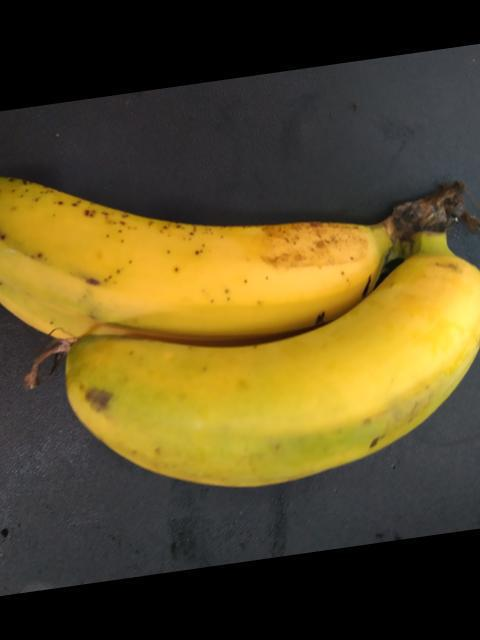freshripe: (69, 259, 476, 506)
ripe: (0, 165, 394, 347)
